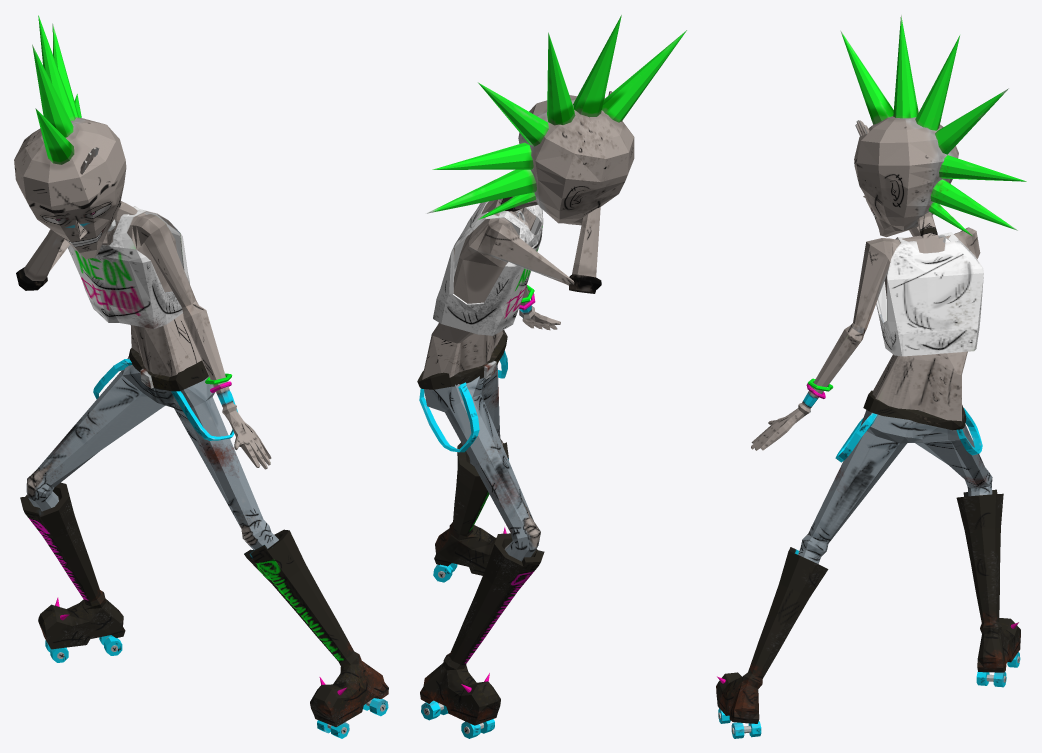
File: punkAnimation_000075.obj
The picture shows the model from 3 angles, left to right: view 1: azimuth 30°, elevation 25°; view 2: azimuth 150°, elevation 25°; view 3: azimuth 270°, elevation 25°; orthographic projection. The views are drawn at different scales.
Visible parts, largest first — view 1: Cube.004_Cube.003; view 2: Cube.004_Cube.003; view 3: Cube.004_Cube.003.
Boxes of the visible parts, box(x1,y1,x2,y2) form: Cube.004_Cube.003: box(14, 15, 388, 738); Cube.004_Cube.003: box(417, 15, 686, 738); Cube.004_Cube.003: box(716, 15, 1026, 738).
Size of the model in its own units: 3.09 by 6.72 by 3.09.
